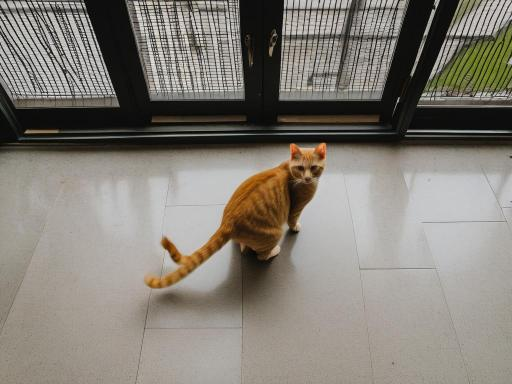cat_standing: (145, 142, 325, 288)
